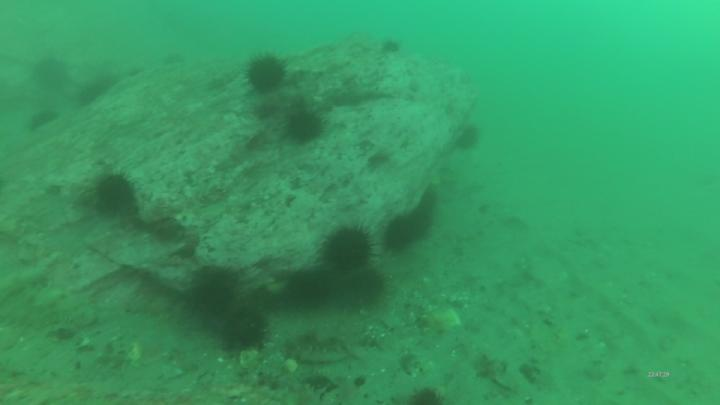echinus: (187, 264, 242, 322), (320, 223, 378, 276), (219, 302, 270, 357), (242, 51, 291, 99), (285, 266, 335, 312), (283, 106, 328, 151), (90, 169, 135, 213), (384, 213, 420, 259), (453, 122, 484, 155), (378, 38, 403, 57)
holothurian: (287, 339, 352, 370)
